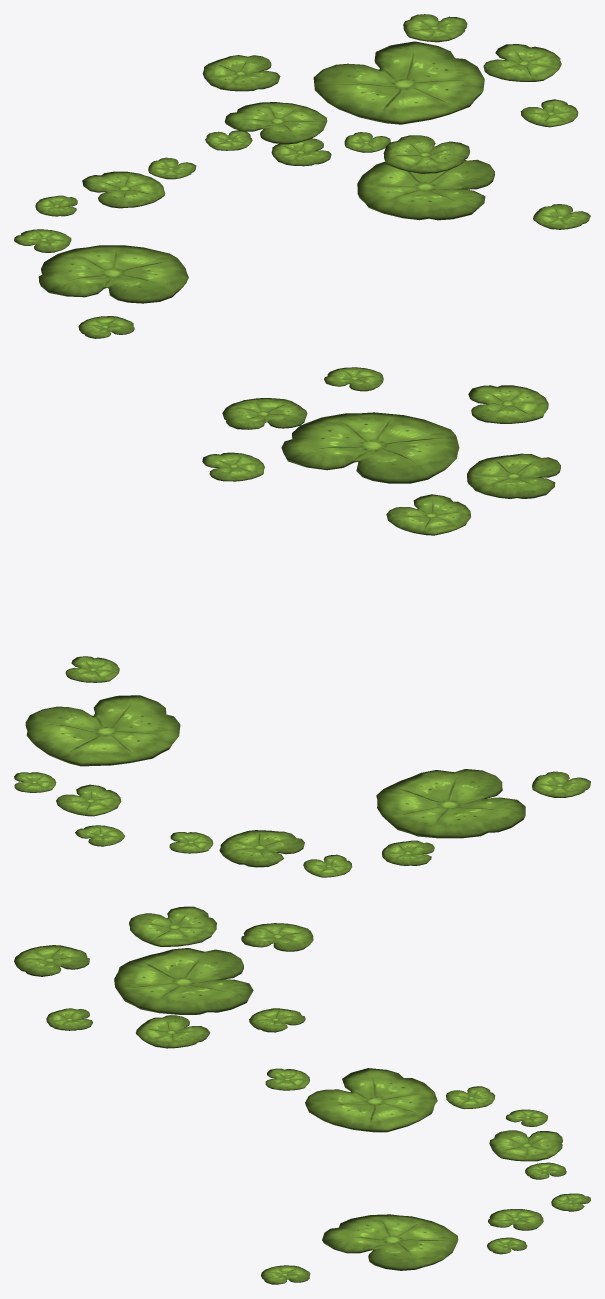
The model's file is all_folha_lotus.fbx.
3 renders of one model, top to bottom at view 1: azimuth 30°, elevation 25°; view 2: azimuth 150°, elevation 25°; view 3: azimuth 270°, elevation 25°, orthographic. The views are drawn at different scales.
Parts seen in each view (by area): view 1: folha_lotus; view 2: folha_lotus; view 3: folha_lotus.
Part boxes in pixels (<box>): folha_lotus: <box>14,14,590,338</box>; folha_lotus: <box>14,367,590,877</box>; folha_lotus: <box>14,906,590,1284</box>.
Bounding box in the file's own units: 0.7716 × 0.3469 × 0.8726.
Materials: 1 (1 with a texture image).
